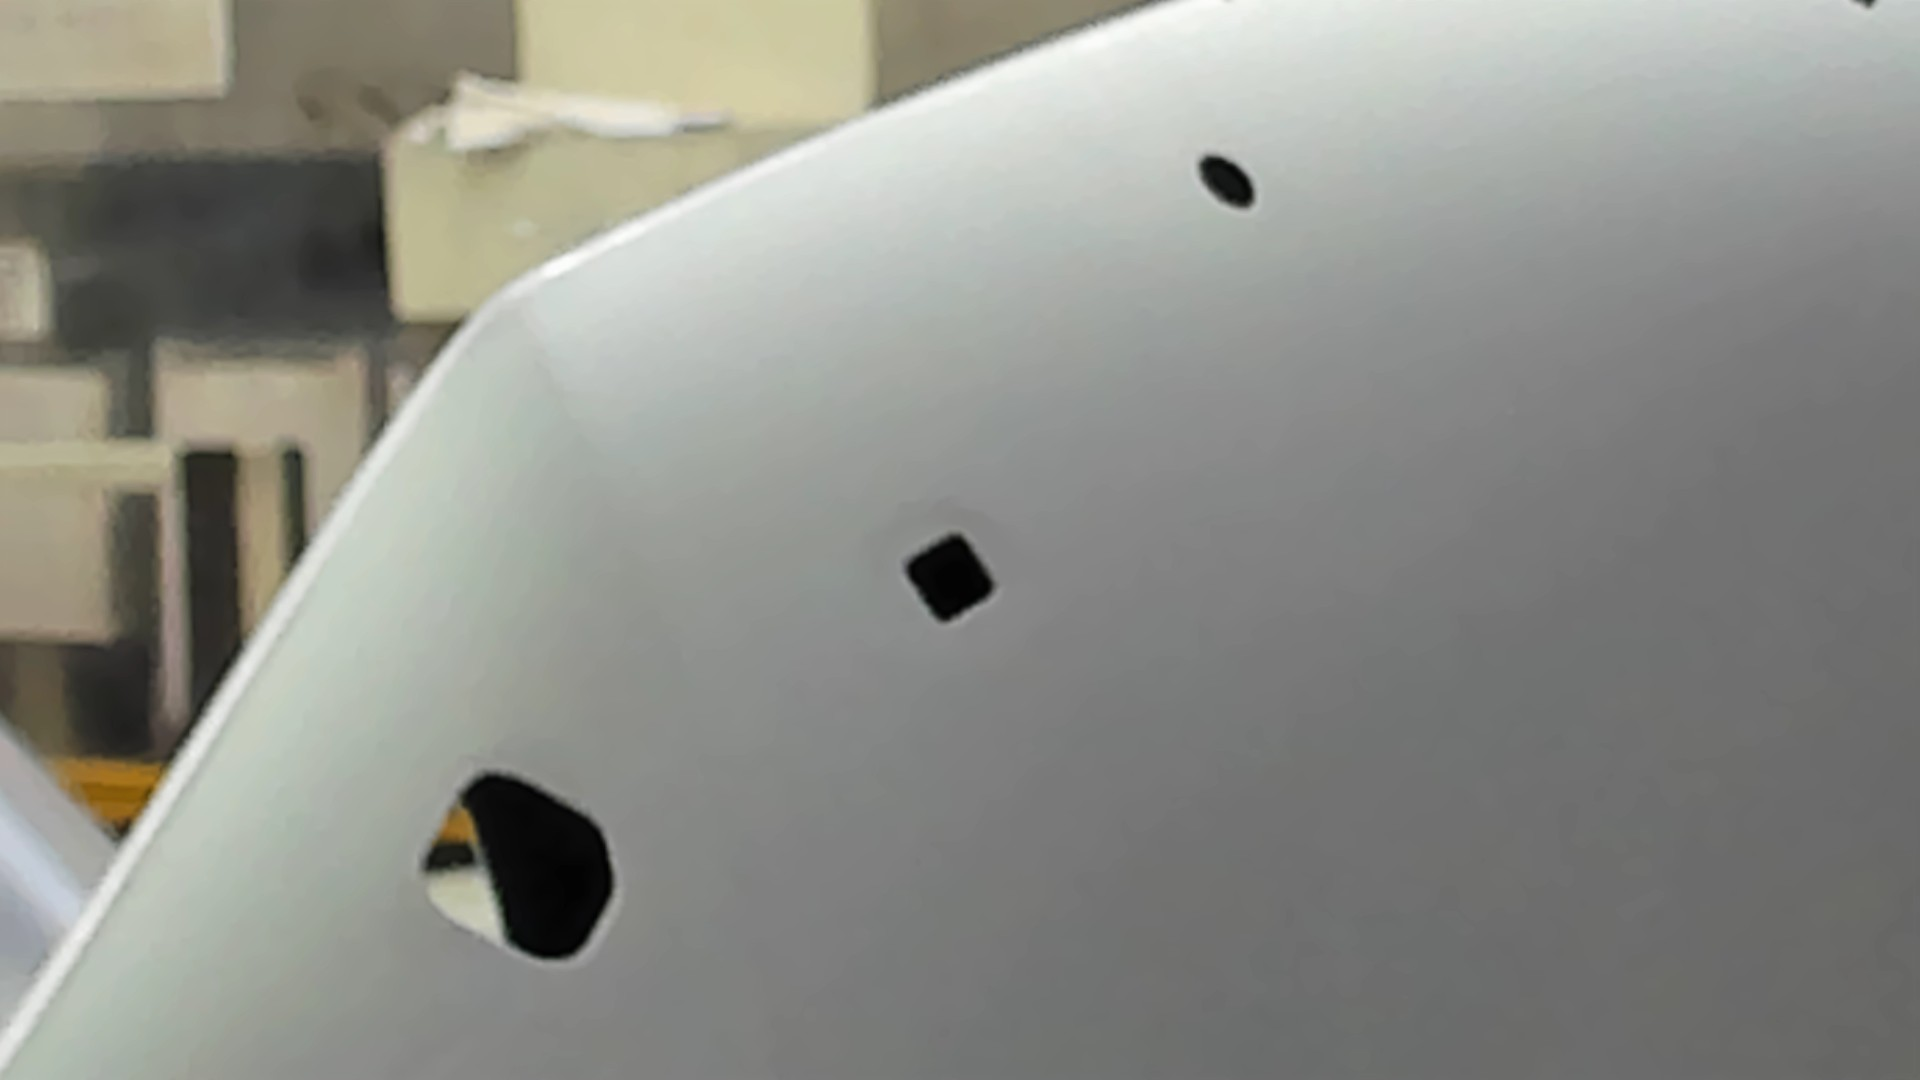chico: (1192, 145, 1265, 218)
grande: (413, 764, 622, 975)
mediano: (895, 531, 1000, 622)
